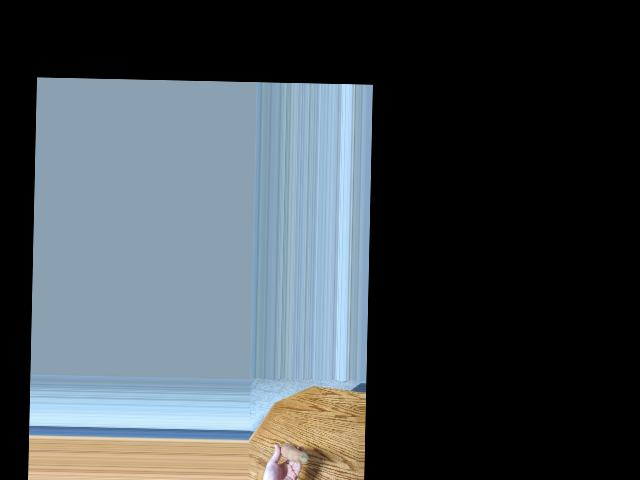sweet_potato: (278, 446, 308, 465)
